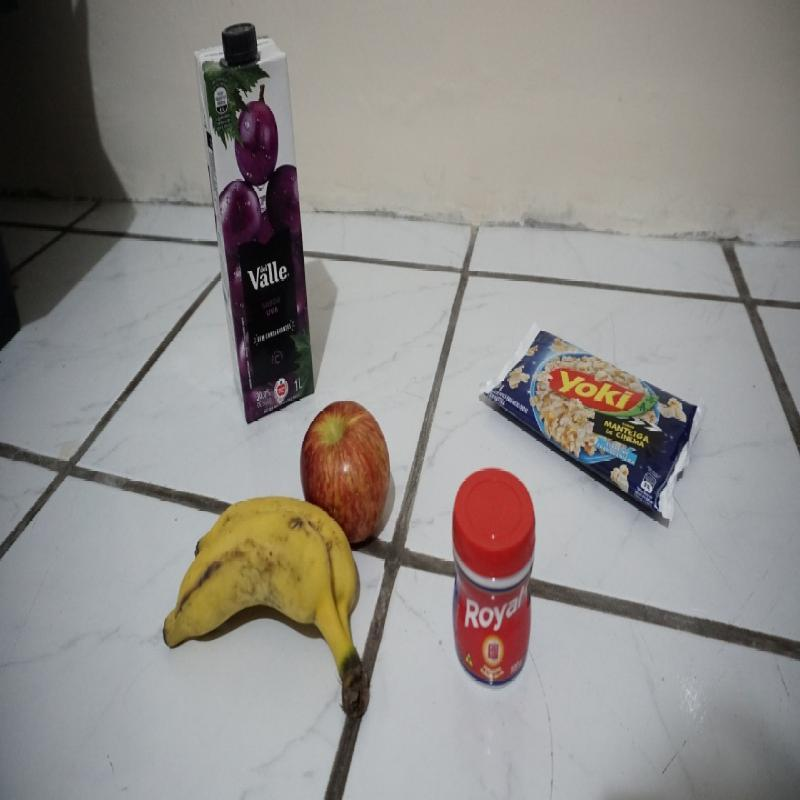Apple: (300, 399, 390, 542)
Banana: (164, 494, 368, 716)
Popcorn: (481, 322, 708, 521)
Yeast: (453, 468, 536, 690)
